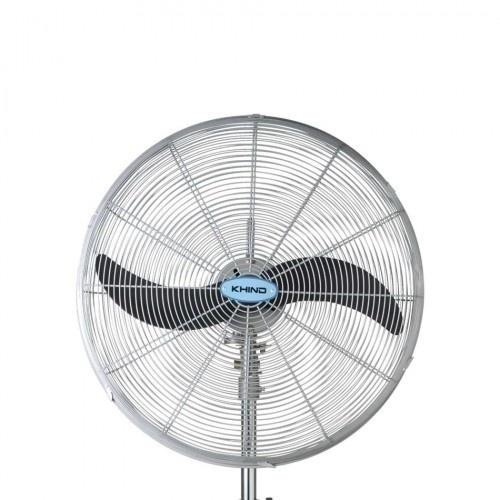fan: (64, 103, 447, 500)
